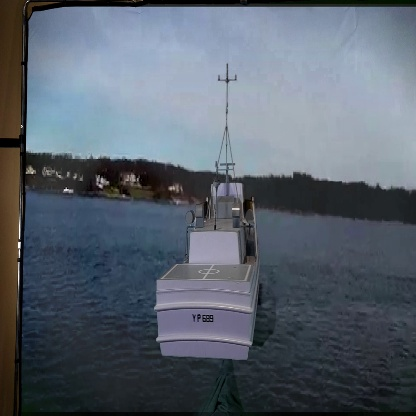YP689: (154, 65, 263, 362)
